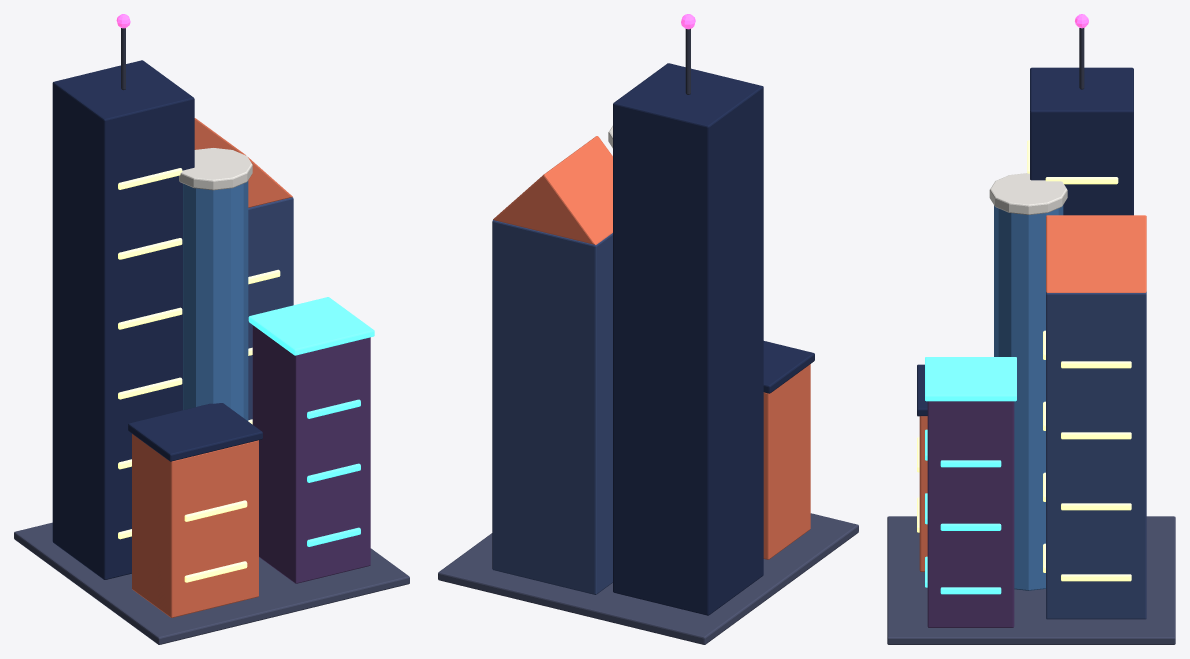
The model's file is skyline.glb.
3 views of the same model, side by side, from view 1: azimuth 30°, elevation 25°; view 2: azimuth 150°, elevation 25°; view 3: azimuth 270°, elevation 25° (orthographic). The views are drawn at different scales.
Visible parts, largest first — view 1: Skyline; view 2: Skyline; view 3: Skyline.
Part boxes in pixels (x1,y1,x2,y2): Skyline: [14, 14, 409, 644]; Skyline: [438, 14, 858, 644]; Skyline: [887, 14, 1175, 644].
Bounding box in the file's own units: 2 × 4.13 × 2.
